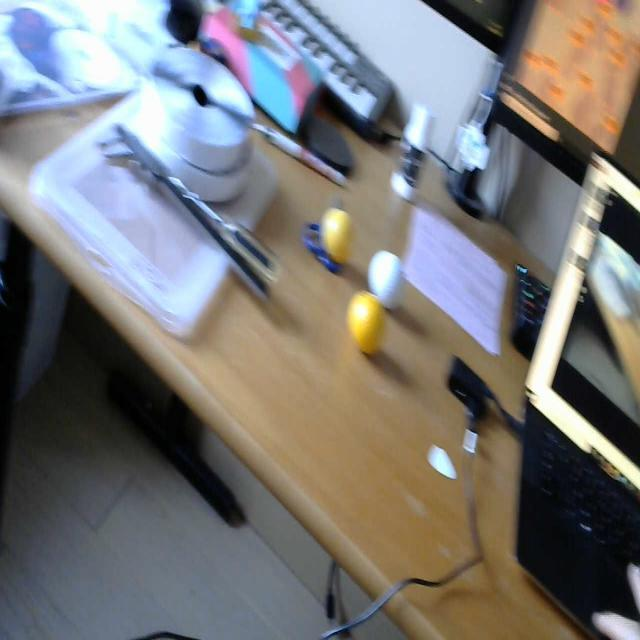golfball: (344, 282, 392, 366), (366, 244, 411, 321), (321, 202, 359, 272)
